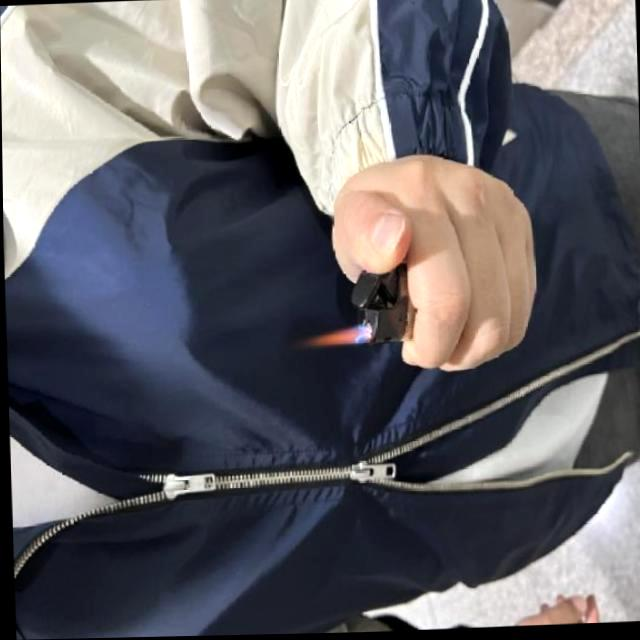fire: (309, 322, 363, 350)
